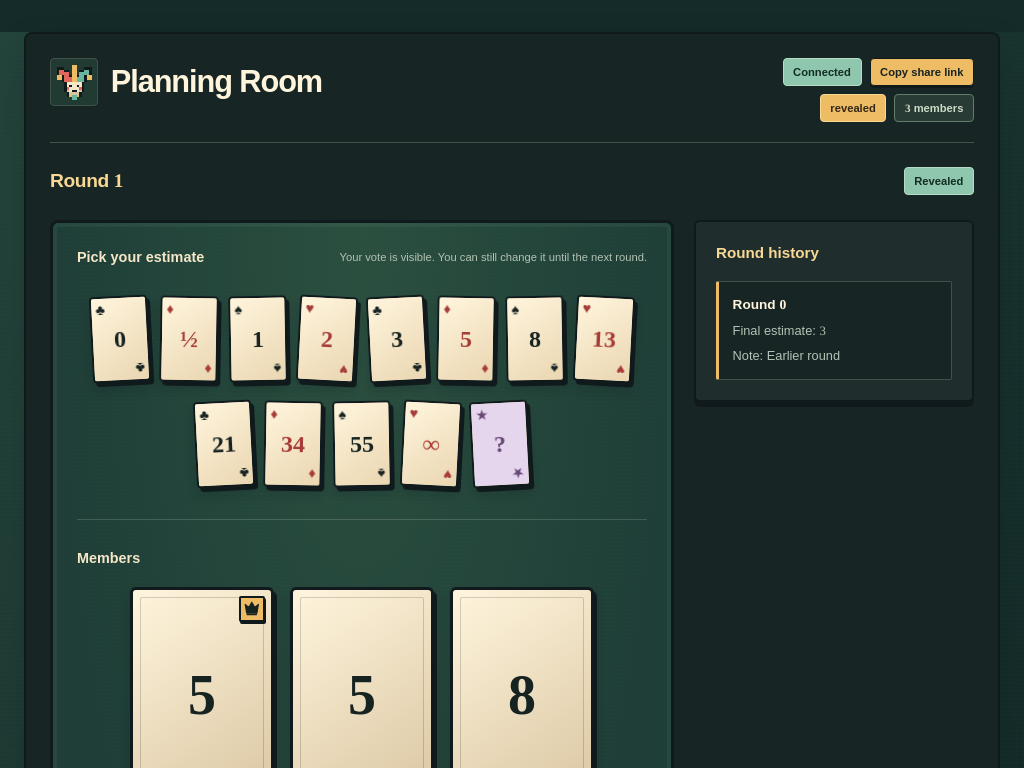
room UI › lets member-host change a shown vote without replacing the final estimate
Expected: the text "Your vote is visible. You can still change it until the next round." is shown, top-left (340, 249), bottom-right (647, 266)
Click the button "♣ ♥ 13 ♥ 13": (604, 339) top-left (573, 295), bottom-right (635, 384)
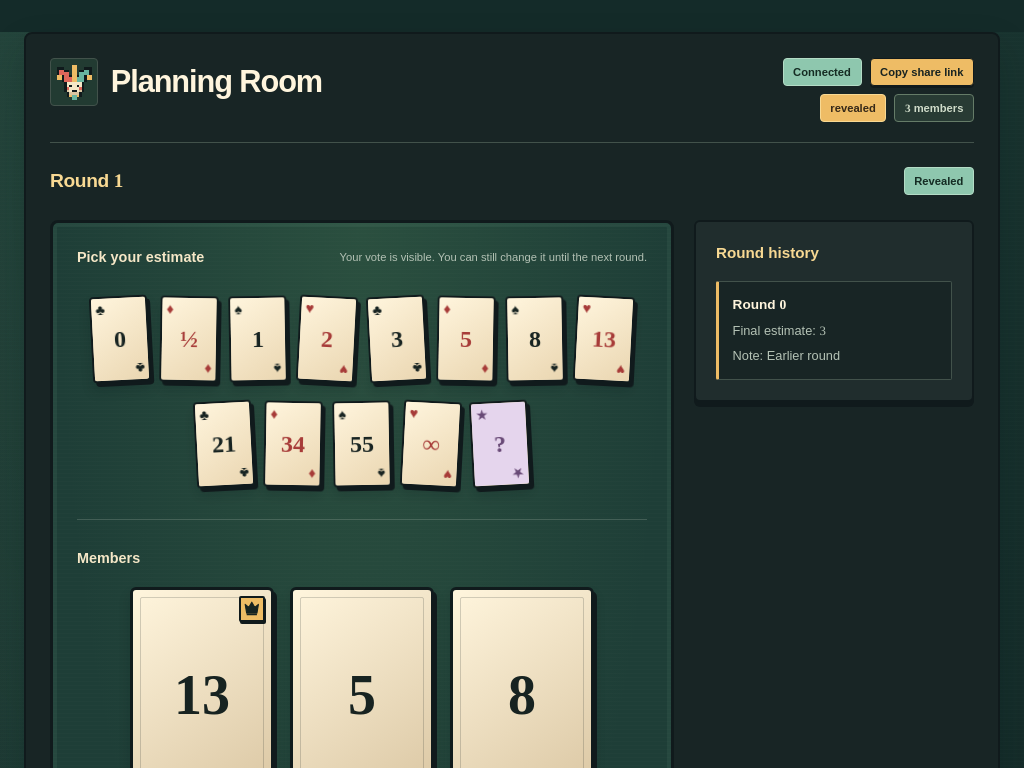
Expected: the text with test id "round-status" reads "Revealed", top-left (914, 175), bottom-right (963, 187)
Expected: the element with test id "member-card-front" reads "13", top-left (174, 664), bottom-right (230, 726)
